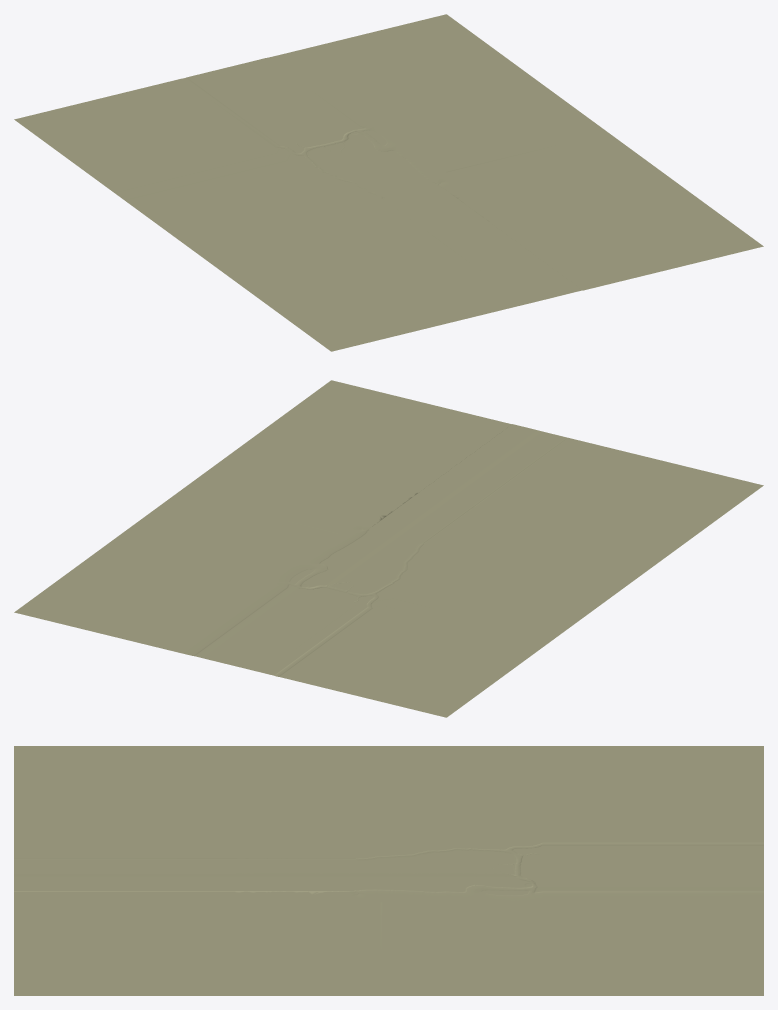
File: terrain__e1834_harbor_cut.glb
3 renders of one model, top to bottom at view 1: azimuth 30°, elevation 25°; view 2: azimuth 150°, elevation 25°; view 3: azimuth 270°, elevation 25°, orthographic. The views are drawn at different scales.
Visible parts, largest first — view 1: terrain__e1834_harbor_cut; view 2: terrain__e1834_harbor_cut; view 3: terrain__e1834_harbor_cut.
Boxes of the visible parts, x1,y1,x2,y2 form: terrain__e1834_harbor_cut: (14,14,763,351); terrain__e1834_harbor_cut: (14,380,763,717); terrain__e1834_harbor_cut: (14,746,763,995).
Size of the model in its own units: 8060 by 9.05 by 10240.
